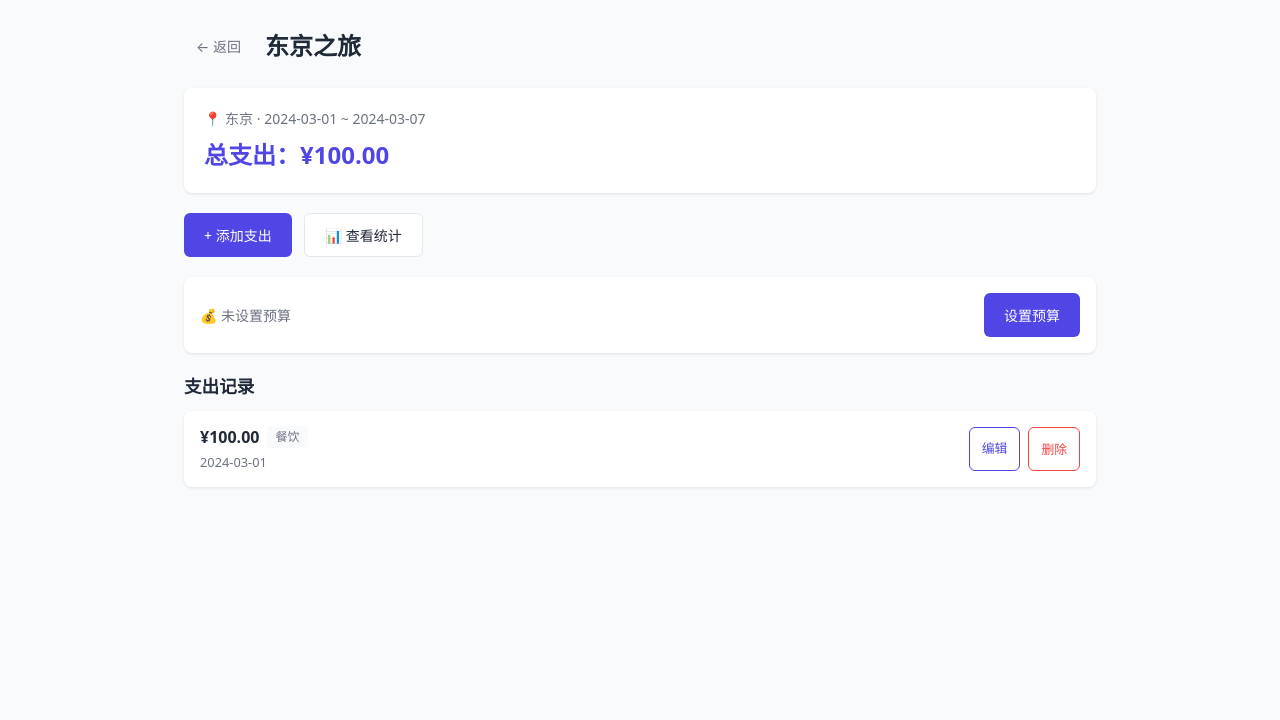
TripDetailPage › 删除支出时显示确认对话框（需求 6.1, 6.3）
This screenshot has width=1280, height=720.
Click the button "删除" at (1054, 449), box [1028,427,1080,471]
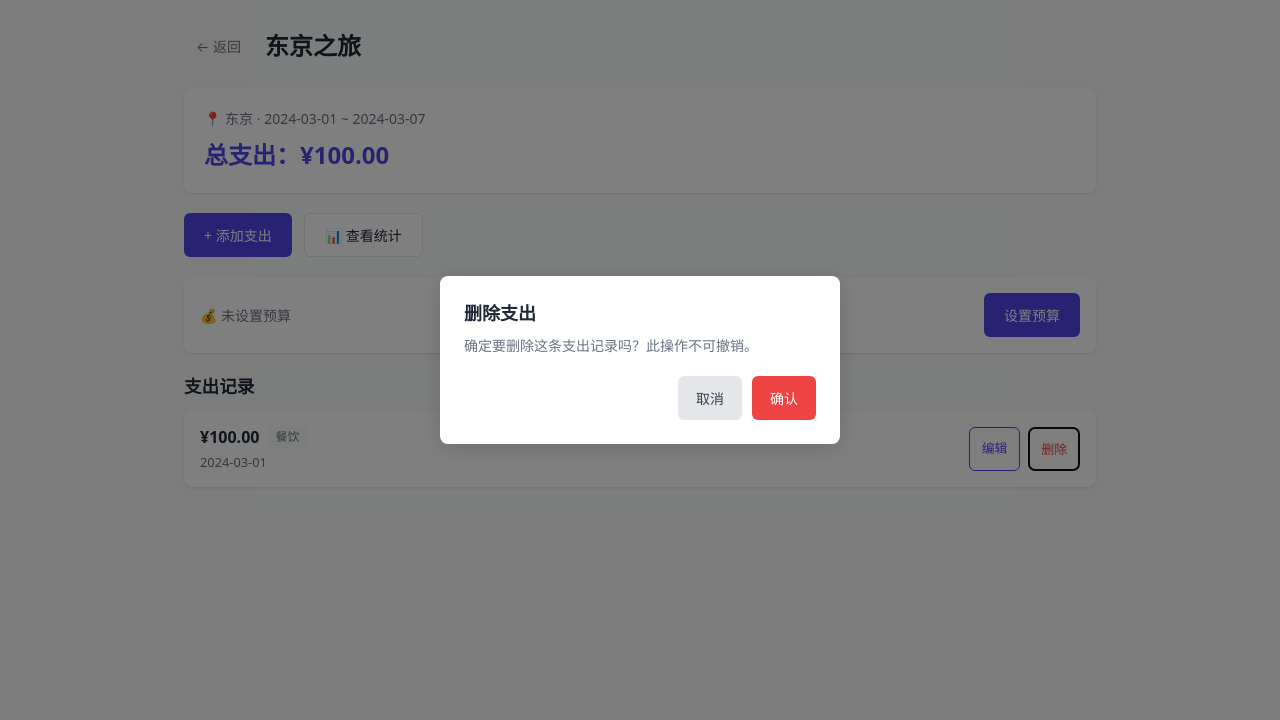
Check: the heading "删除支出" is shown, box [464,301,536,325]
Check: the text "确定要删除这条支出记录吗？此操作不可撤销。" is shown, box [464,336,758,355]
Note: 点击取消，对话框关闭（需求 6.3）
Click the button "取消" at (710, 398), box [678,376,742,420]
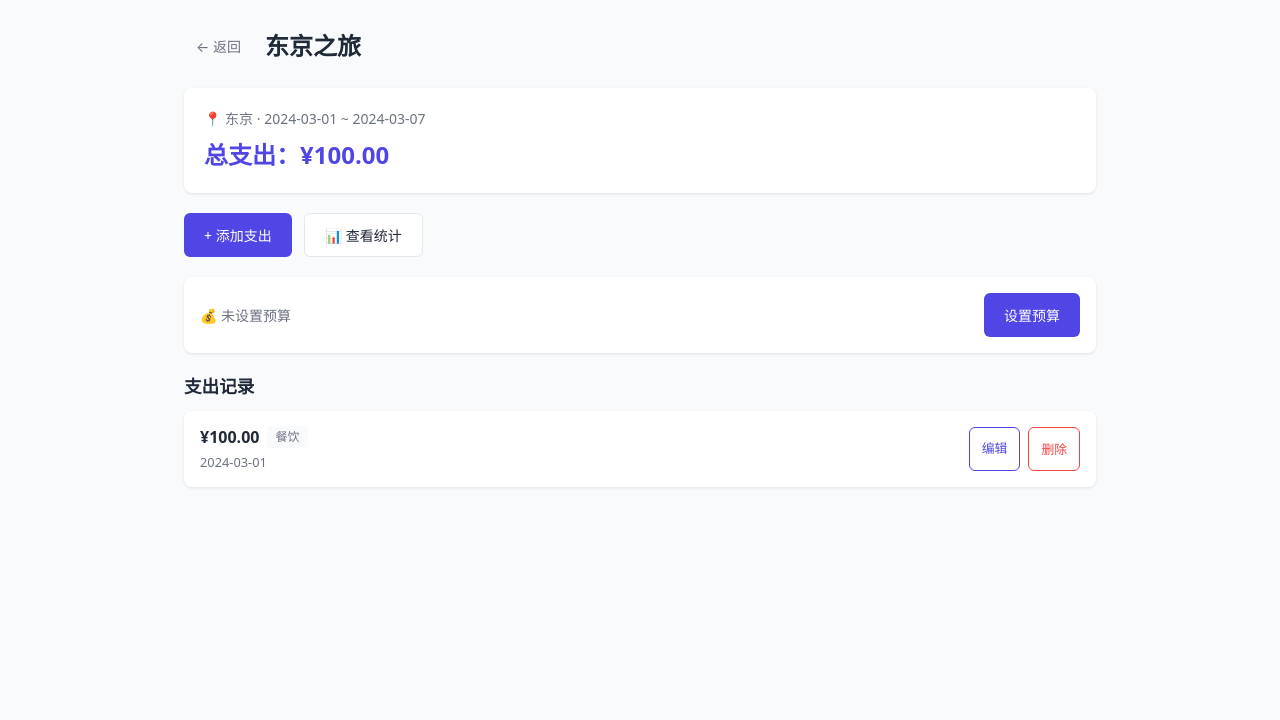
Check: the heading "删除支出" is gone
